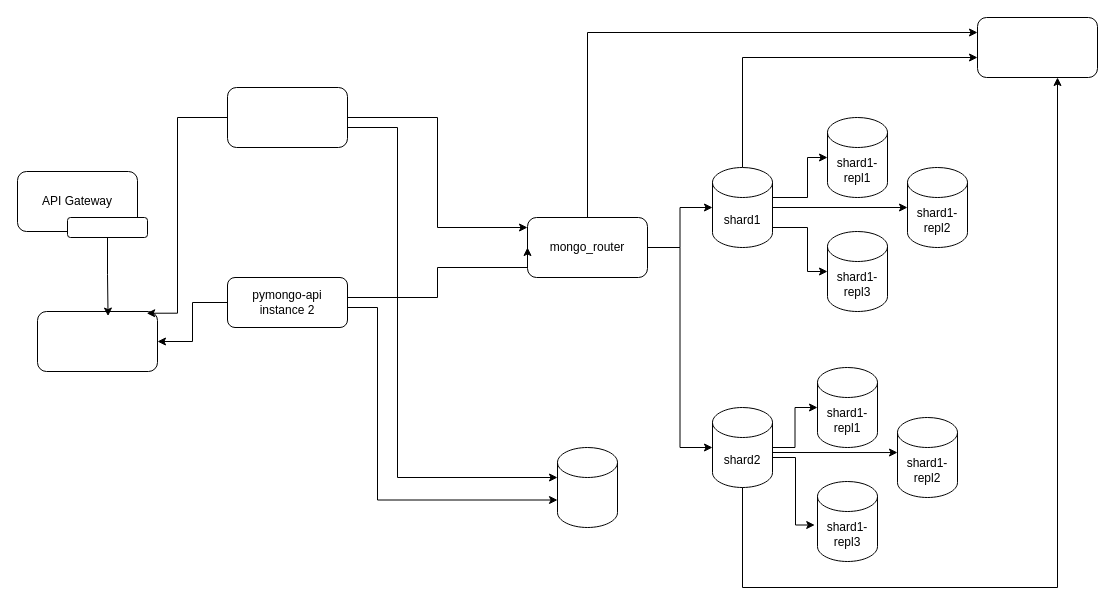
The diagram is 1115 pixels wide and 613 high, and some of its shapes have lost their labels. Here are the shapes that lost their labels. From the top down, the centre of each, then its label:
the point at 1037,47: configSrv
the point at 287,117: pymongo-api instance1
the point at 107,227: consul_kv
the point at 97,341: consul
the point at 587,487: Redis
